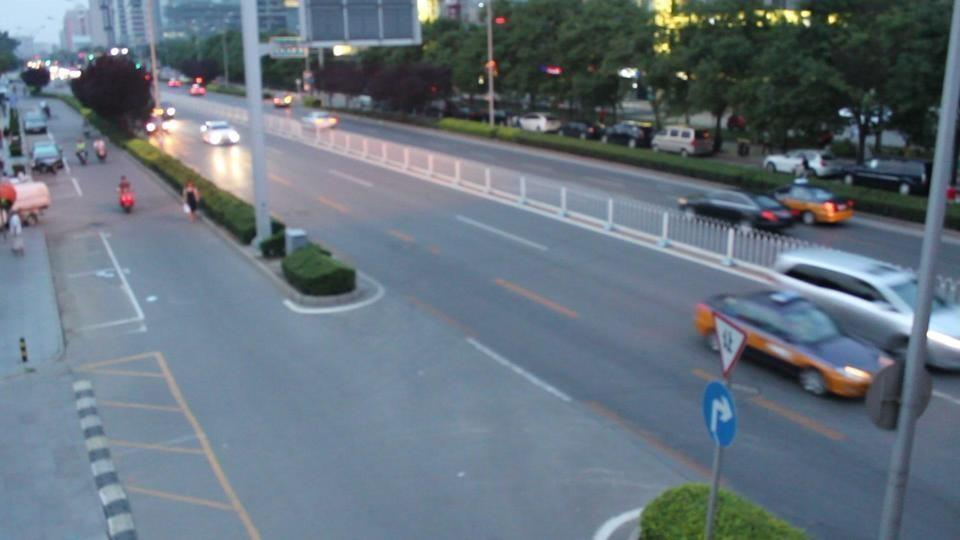car: (772, 243, 960, 375), (694, 287, 894, 400), (677, 190, 802, 233), (770, 181, 857, 226), (835, 159, 930, 195), (1, 177, 52, 224), (651, 126, 716, 157), (762, 152, 831, 175), (601, 122, 652, 148), (29, 139, 63, 174), (200, 120, 240, 146), (515, 113, 563, 134), (558, 121, 603, 141), (23, 112, 48, 134), (272, 93, 294, 109), (154, 104, 176, 119), (168, 77, 184, 88)
